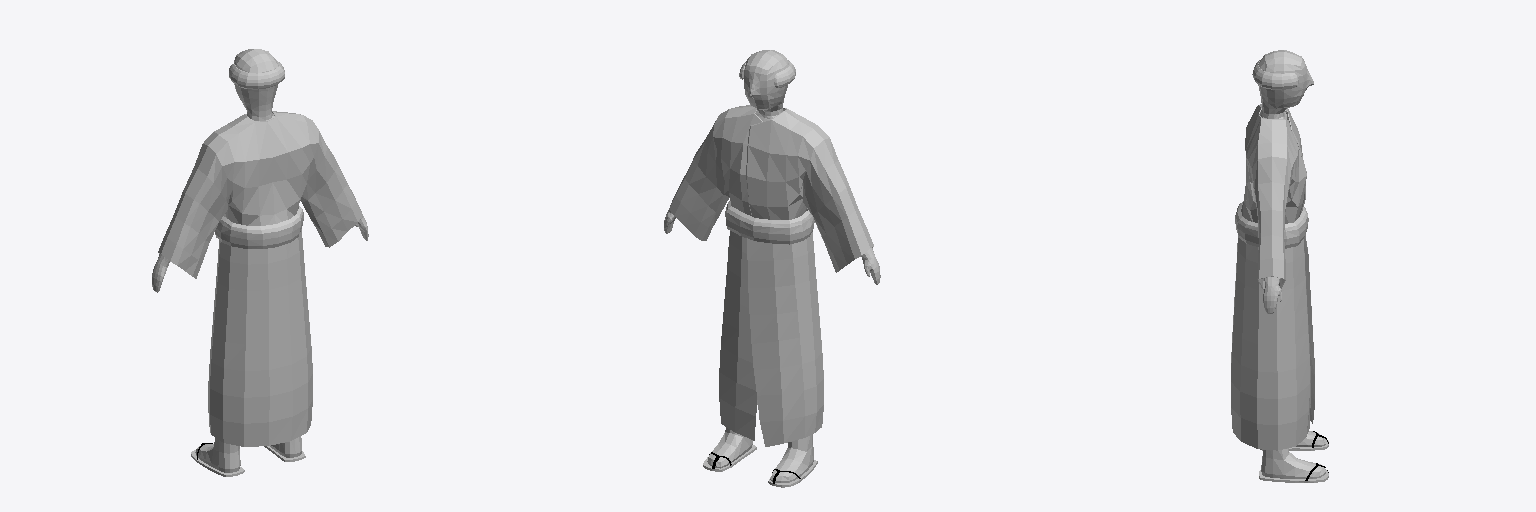
The model's file is Personaje_solo.obj.
3 renders of one model, left to right at view 1: azimuth 30°, elevation 25°; view 2: azimuth 150°, elevation 25°; view 3: azimuth 270°, elevation 25°, orthographic.
Visible parts, largest first — view 1: Ropa; view 2: Ropa; view 3: Ropa.
Boxes of the visible parts, x1=… form: Ropa: x1=152, y1=49, x2=368, y2=476; Ropa: x1=664, y1=50, x2=880, y2=487; Ropa: x1=1231, y1=50, x2=1328, y2=482.
Size of the model in its own units: 0.9034 by 1.65 by 0.3598.